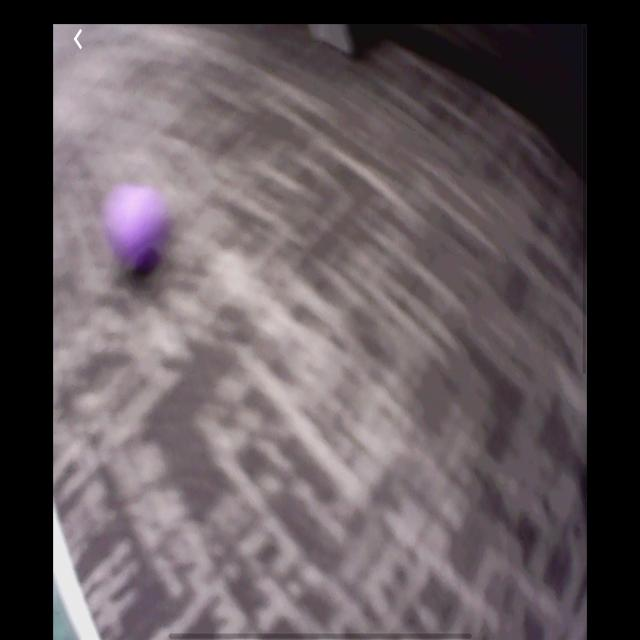ball: (105, 183, 166, 263)
